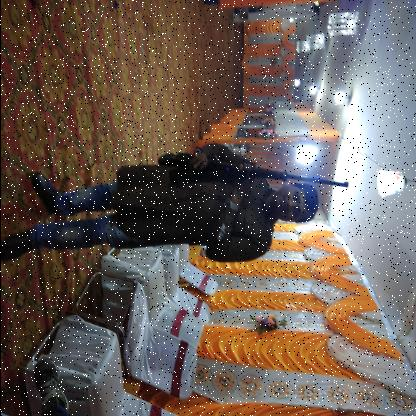rifle: (155, 150, 349, 190)
